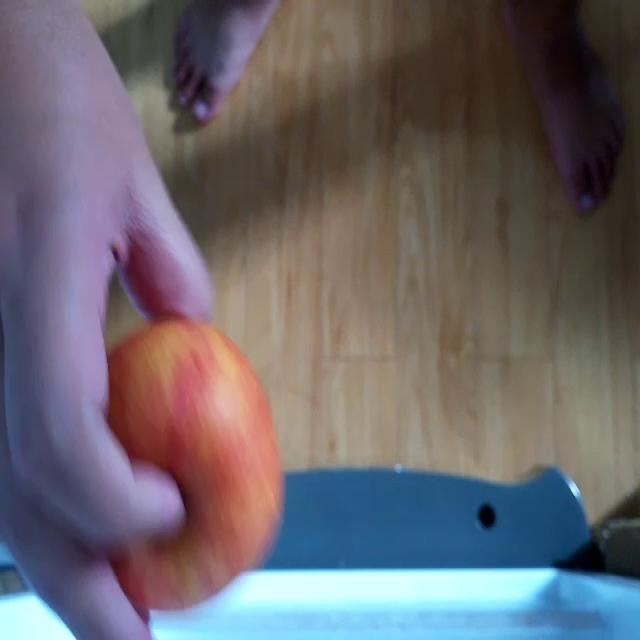apple: (100, 312, 282, 600)
